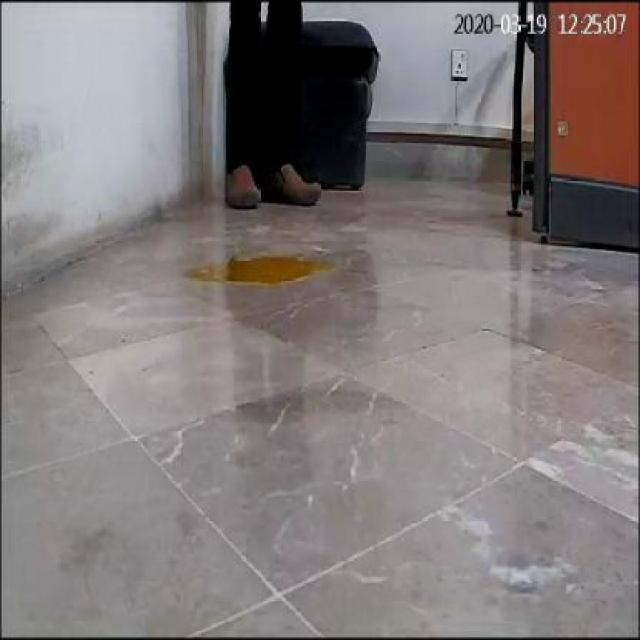spill: (193, 250, 336, 288)
